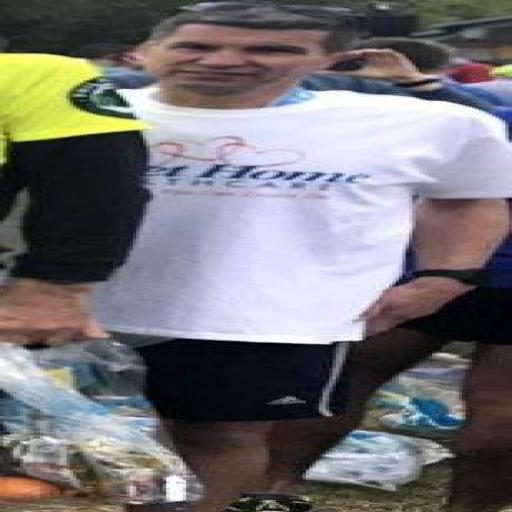person: (94, 2, 511, 511), (0, 54, 149, 342), (303, 49, 492, 111), (74, 43, 152, 88), (473, 65, 511, 106)
